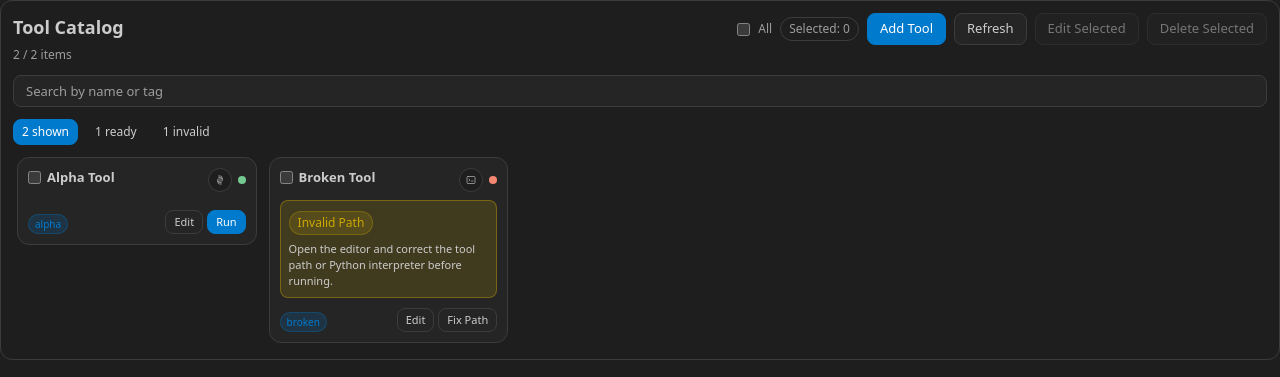
Test: ToolList › filters tools by search keyword
Type "broken" into the search field with placeholder "Search by name or tag" at (640, 91), box [13, 75, 1267, 107]
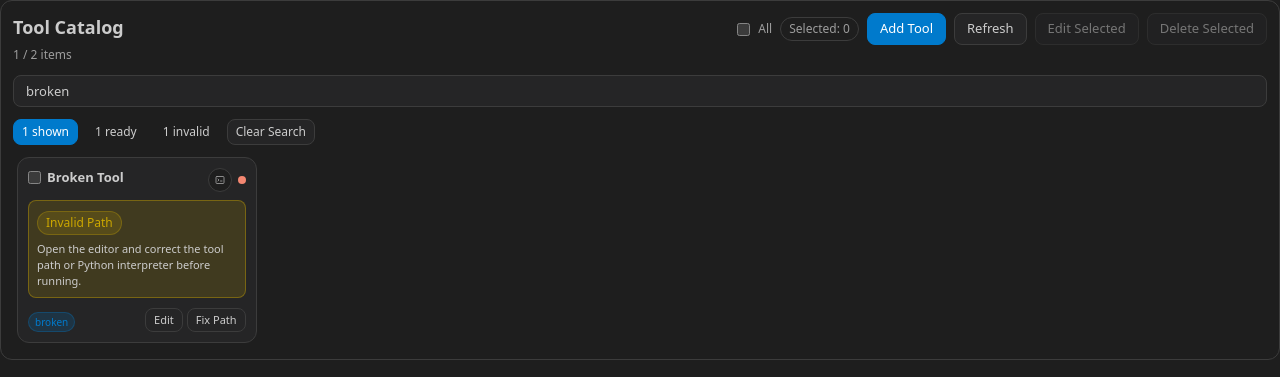
Expected: the text "Broken Tool" is shown, [47, 168, 124, 188]
Expected: the text "Alpha Tool" is gone
